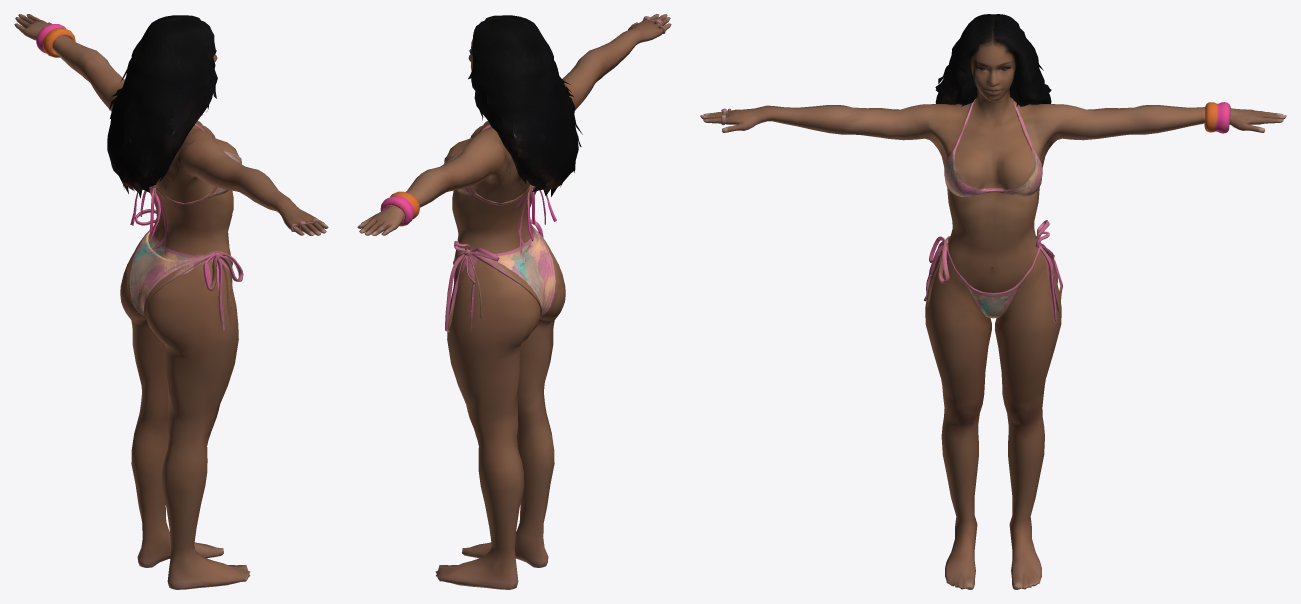
Rendered from femalehuman3dmodel.glb.
3 views of the same model, side by side, from view 1: azimuth 30°, elevation 25°; view 2: azimuth 150°, elevation 25°; view 3: azimuth 270°, elevation 25° (orthographic). The views are drawn at different scales.
Visible parts, largest first — view 1: tripo_node_4e562a04-8898-4bcc-a459-a62ebef9a761; view 2: tripo_node_4e562a04-8898-4bcc-a459-a62ebef9a761; view 3: tripo_node_4e562a04-8898-4bcc-a459-a62ebef9a761.
Part boxes in pixels (left/top/right/bottom): tripo_node_4e562a04-8898-4bcc-a459-a62ebef9a761: left=14, top=14, right=328, bottom=589; tripo_node_4e562a04-8898-4bcc-a459-a62ebef9a761: left=357, top=14, right=671, bottom=589; tripo_node_4e562a04-8898-4bcc-a459-a62ebef9a761: left=700, top=14, right=1286, bottom=589.
Bounding box in the file's own units: 0.2231 × 0.9995 × 0.9751.
Materials: 1 (1 with a texture image).
